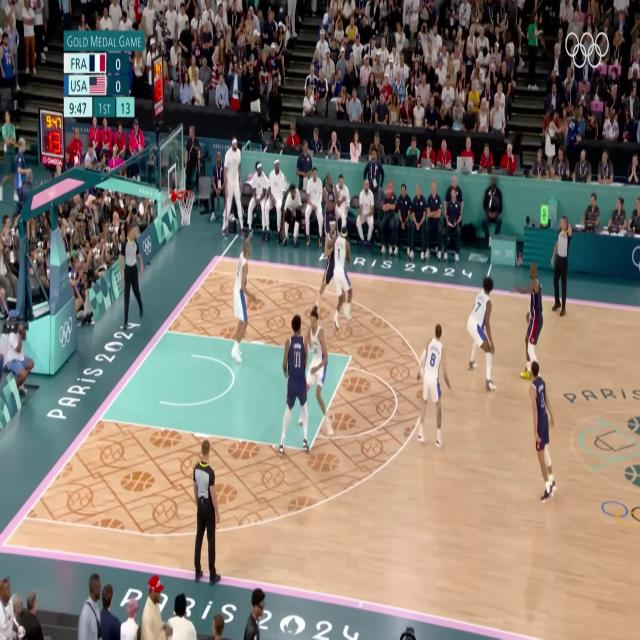player: (270, 308, 312, 462), (507, 242, 551, 386), (516, 358, 560, 502), (410, 310, 453, 452), (301, 296, 340, 452), (466, 256, 504, 411), (221, 242, 262, 376), (331, 218, 366, 329), (313, 212, 338, 323)
